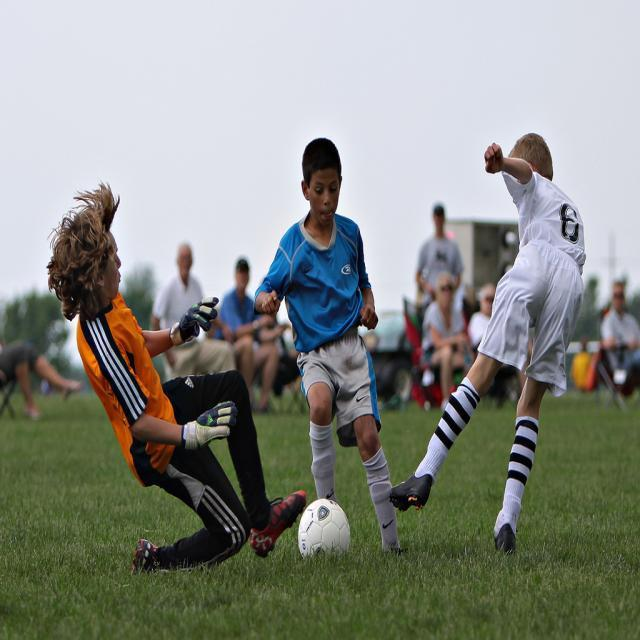football: (293, 493, 371, 587)
